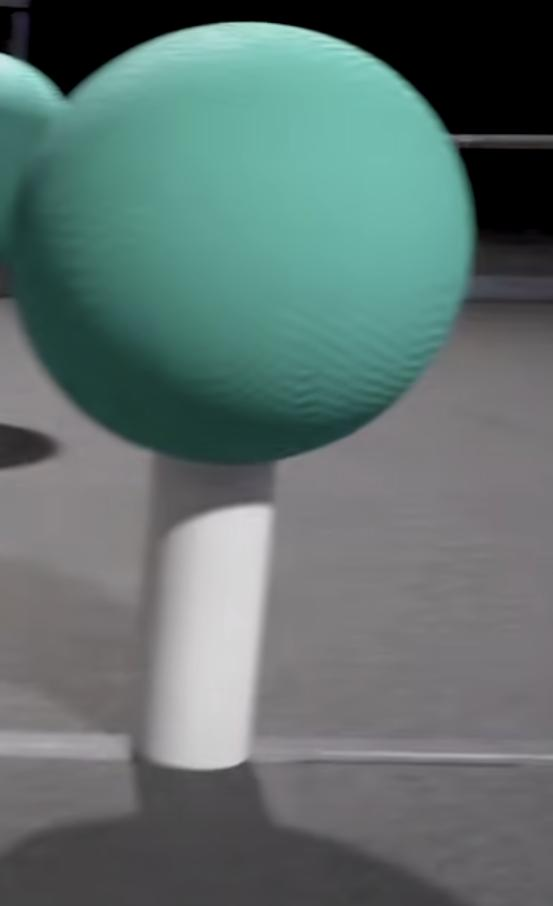algae: (9, 22, 474, 462), (0, 54, 64, 262)
coral: (139, 460, 276, 770)
